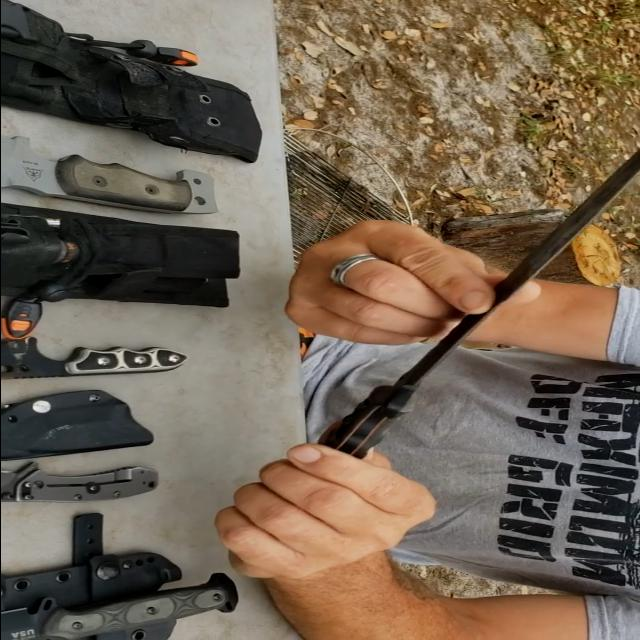knife: (318, 134, 639, 470), (1, 448, 207, 520), (1, 332, 191, 392)
